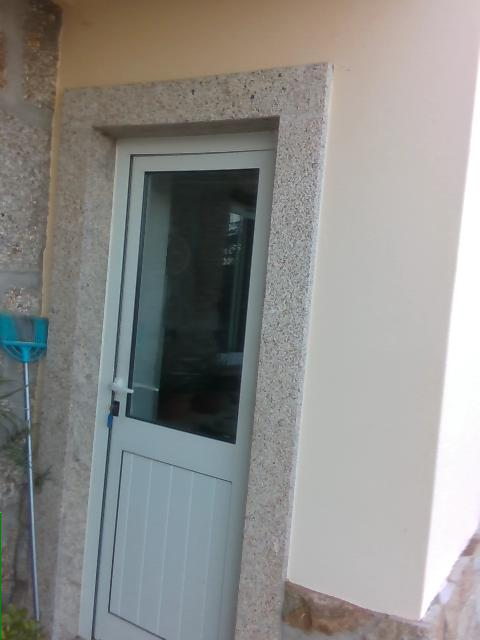door: (76, 135, 277, 640)
